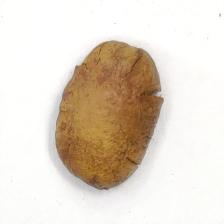NG: (76, 40, 142, 76), (124, 86, 166, 110)
